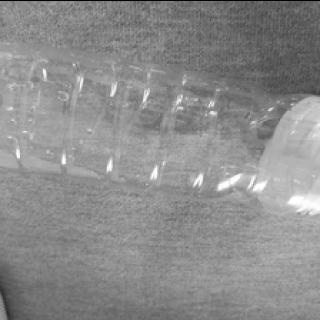plastic_bottles: (2, 33, 320, 227)
